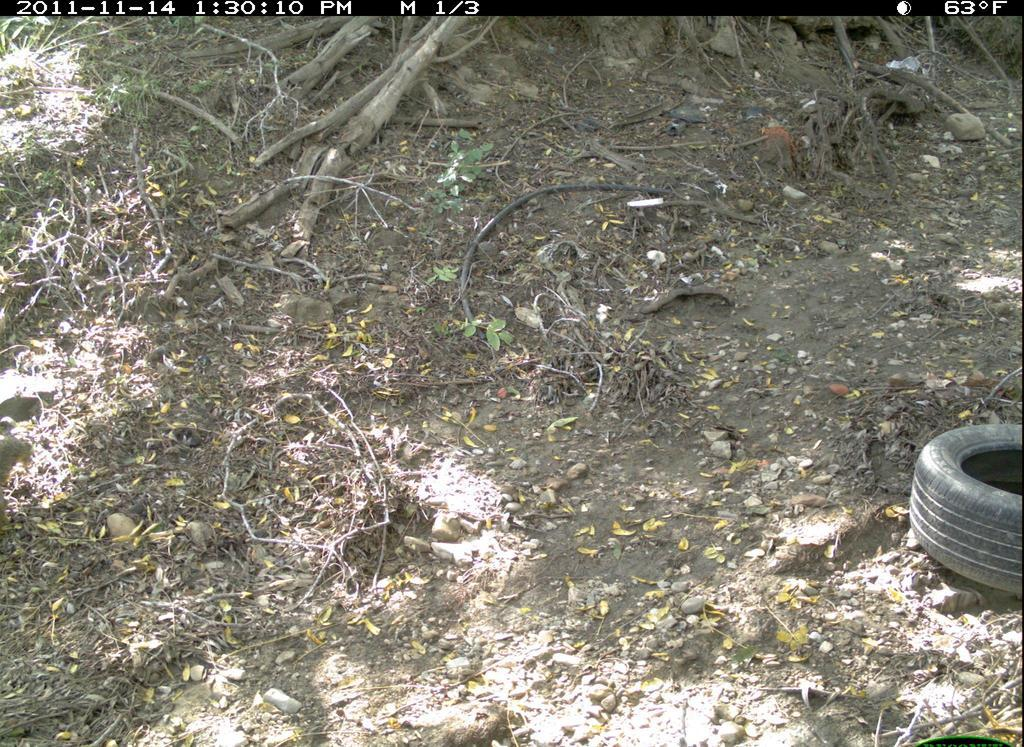squirrel: (1, 432, 36, 522)
